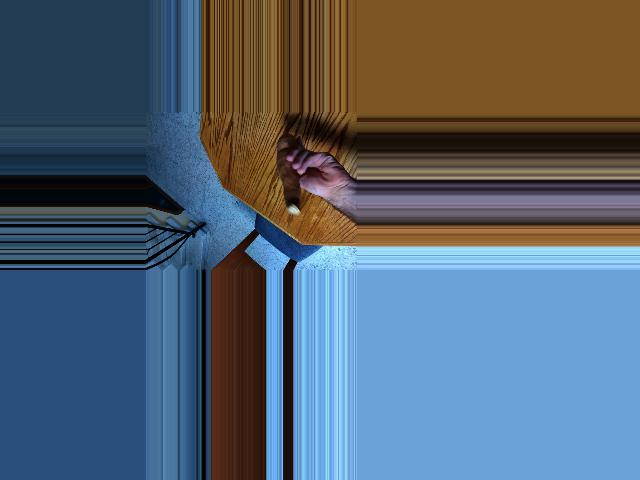sweet_potato: (273, 133, 308, 212)
